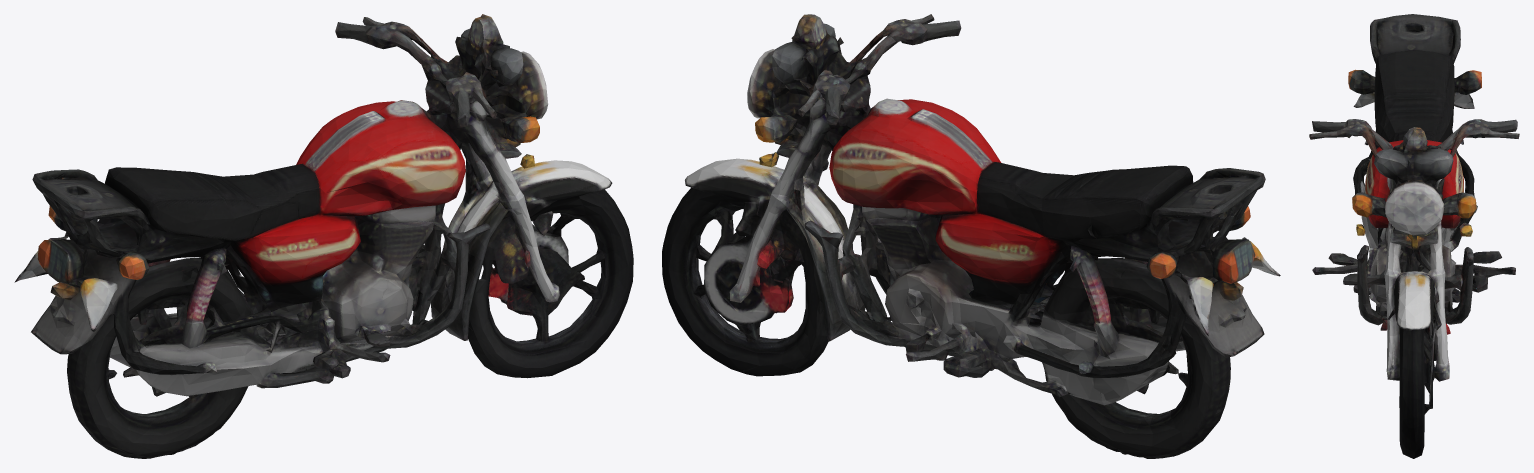
Rendered from KLD 200.glb.
The picture shows the model from 3 angles, left to right: view 1: azimuth 30°, elevation 25°; view 2: azimuth 150°, elevation 25°; view 3: azimuth 270°, elevation 25°; orthographic projection. The views are drawn at different scales.
Visible parts, largest first — view 1: world; view 2: world; view 3: world.
Boxes of the visible parts, <box> form: world: <box>14,14,633,458</box>; world: <box>662,14,1280,458</box>; world: <box>1309,14,1519,458</box>.
Size of the model in its own units: 1 by 0.6054 by 0.3876.
Materials: 1 (1 with a texture image).
